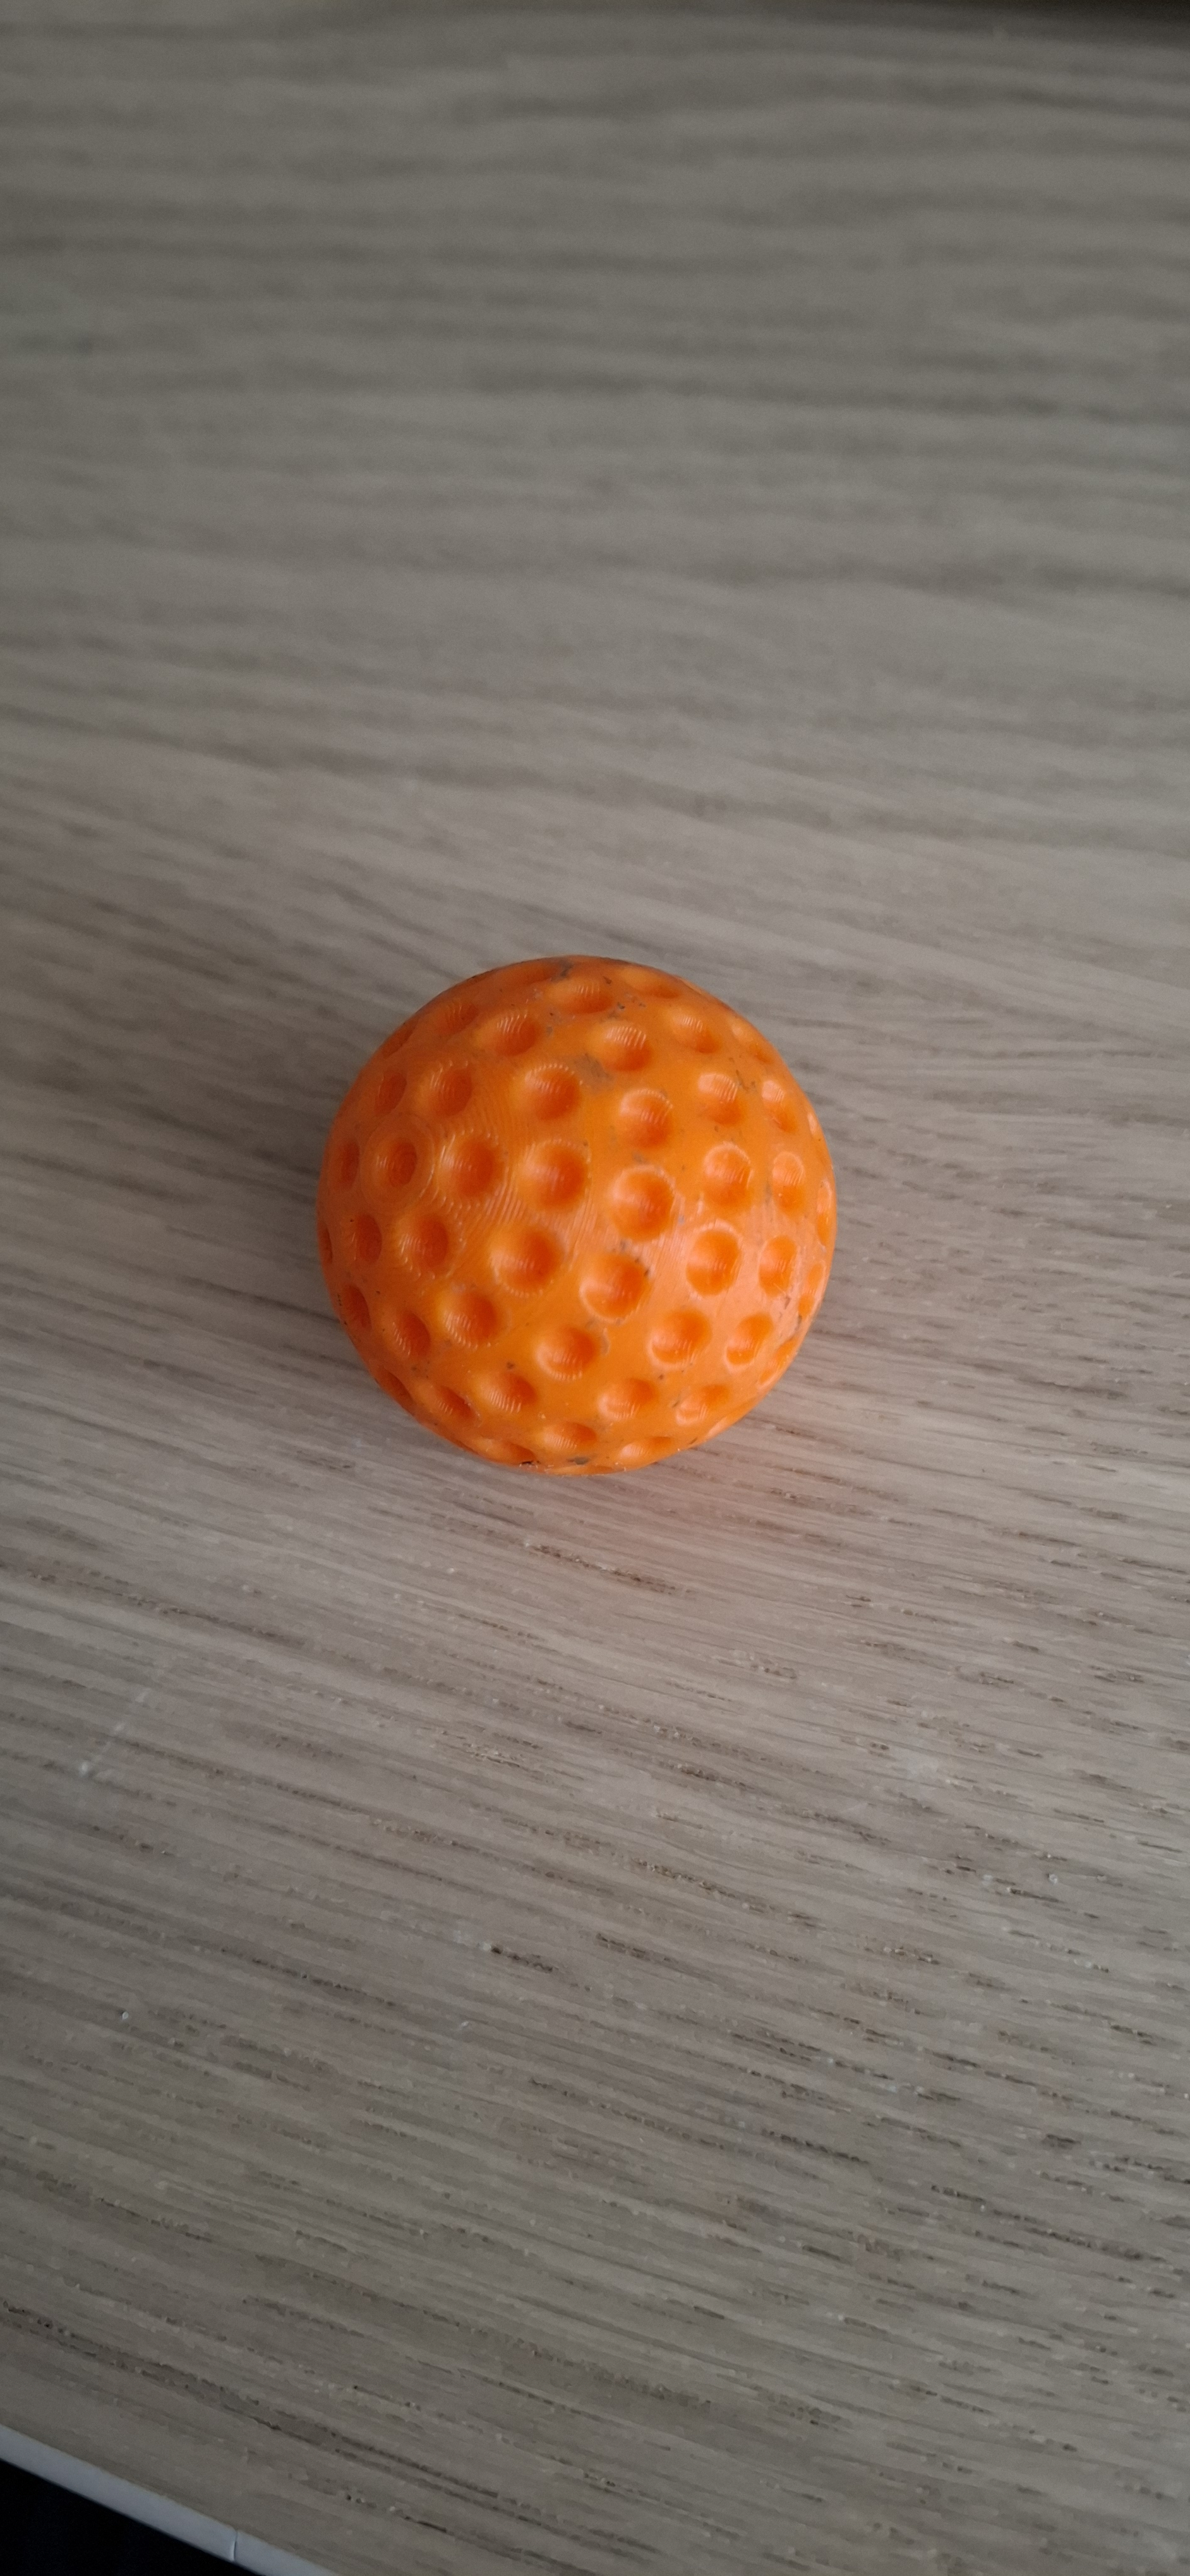ball: (417, 718, 702, 1960)
